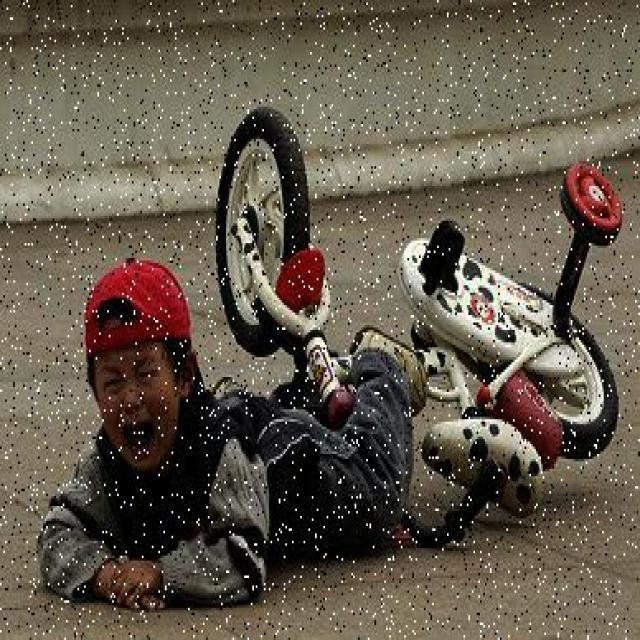fall: (41, 260, 416, 592)
